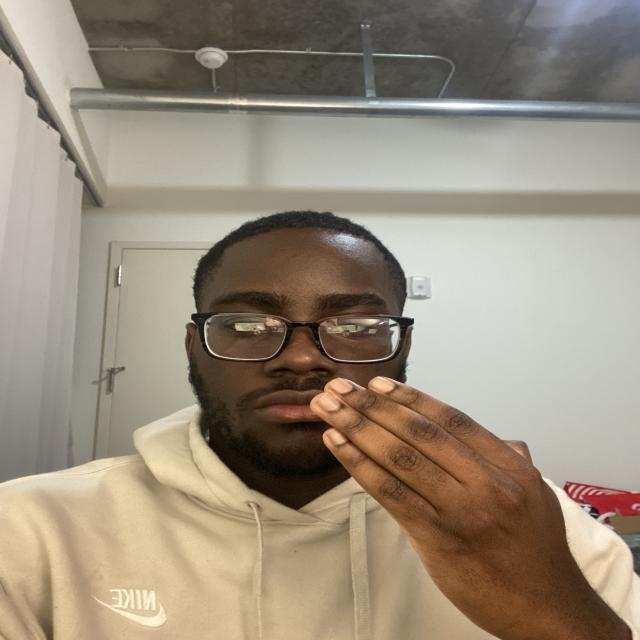Thank you: (302, 364, 600, 621)
